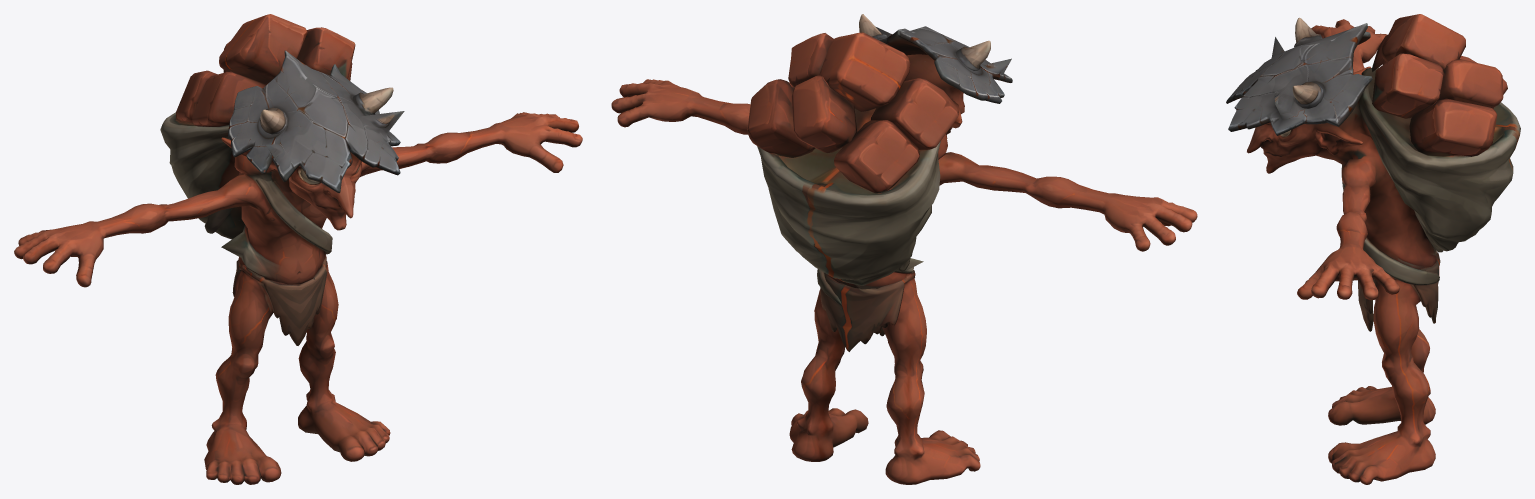
Rendered from D01_hodling.glb.
3 views of the same model, side by side, from view 1: azimuth 30°, elevation 25°; view 2: azimuth 150°, elevation 25°; view 3: azimuth 270°, elevation 25° (orthographic). The views are drawn at different scales.
Parts seen in each view (by area): view 1: tripo_8d791fe1_65fe_4ee5_9952_381babb3cb2c; view 2: tripo_8d791fe1_65fe_4ee5_9952_381babb3cb2c; view 3: tripo_8d791fe1_65fe_4ee5_9952_381babb3cb2c.
Boxes of the visible parts, box(x1,y1,x2,y2) form: tripo_8d791fe1_65fe_4ee5_9952_381babb3cb2c: box(14, 14, 582, 484); tripo_8d791fe1_65fe_4ee5_9952_381babb3cb2c: box(611, 14, 1197, 484); tripo_8d791fe1_65fe_4ee5_9952_381babb3cb2c: box(1226, 14, 1520, 484).
Size of the model in its own units: 0.9995 by 0.7358 by 0.4585.
Materials: 1 (1 with a texture image).
